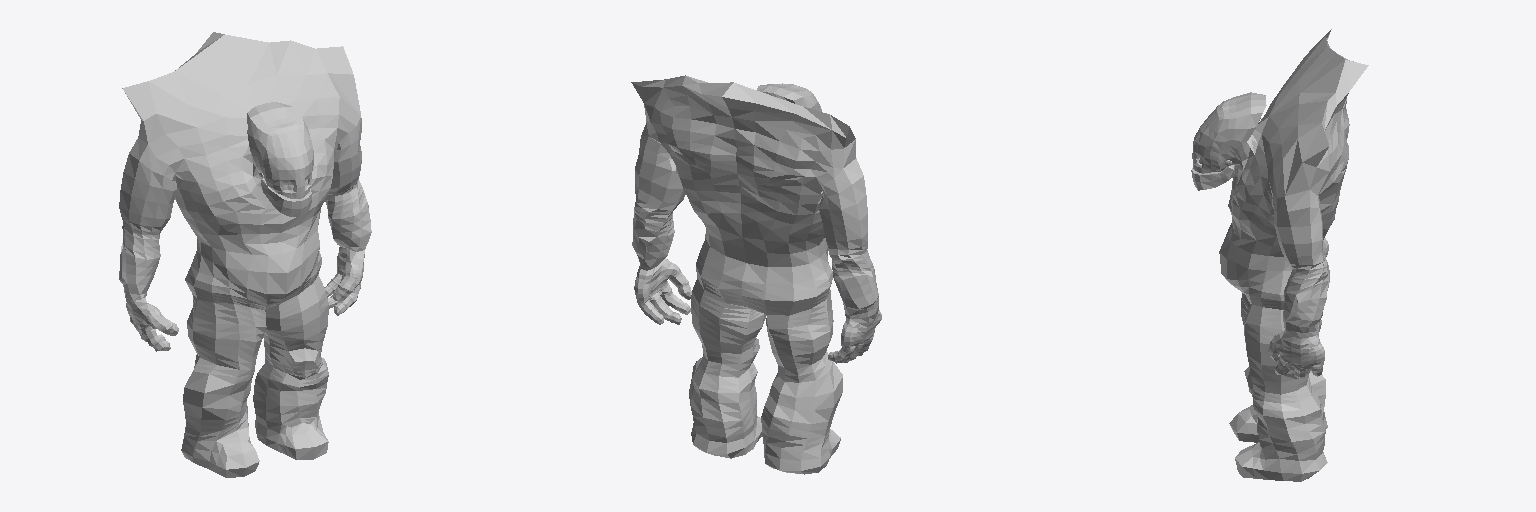
File: golem_000009.obj
3 views of the same model, side by side, from view 1: azimuth 30°, elevation 25°; view 2: azimuth 150°, elevation 25°; view 3: azimuth 270°, elevation 25° (orthographic).
Visible parts, largest first — view 1: golem; view 2: golem; view 3: golem.
Boxes of the visible parts, <box> form: golem: <box>119,32,371,477</box>; golem: <box>631,75,881,474</box>; golem: <box>1191,29,1368,481</box>.
Bounding box in the file's own units: 7.35 × 11.3 × 4.61.